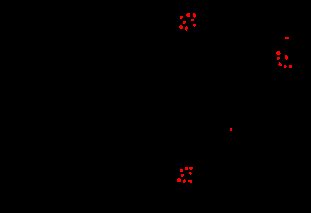Target: (276, 51, 281, 55), (186, 13, 190, 17), (179, 25, 183, 29), (278, 62, 282, 66), (177, 178, 181, 182), (193, 13, 196, 18), (185, 26, 188, 31), (285, 55, 288, 60), (189, 167, 193, 170), (183, 179, 186, 183), (188, 180, 192, 183), (180, 16, 183, 19), (183, 21, 186, 24), (193, 24, 196, 27), (277, 57, 280, 60), (284, 65, 287, 68), (289, 65, 292, 68), (185, 167, 188, 170), (180, 169, 183, 172), (189, 172, 192, 175), (181, 174, 184, 177), (285, 37, 289, 39), (191, 19, 194, 21), (230, 128, 232, 131)
